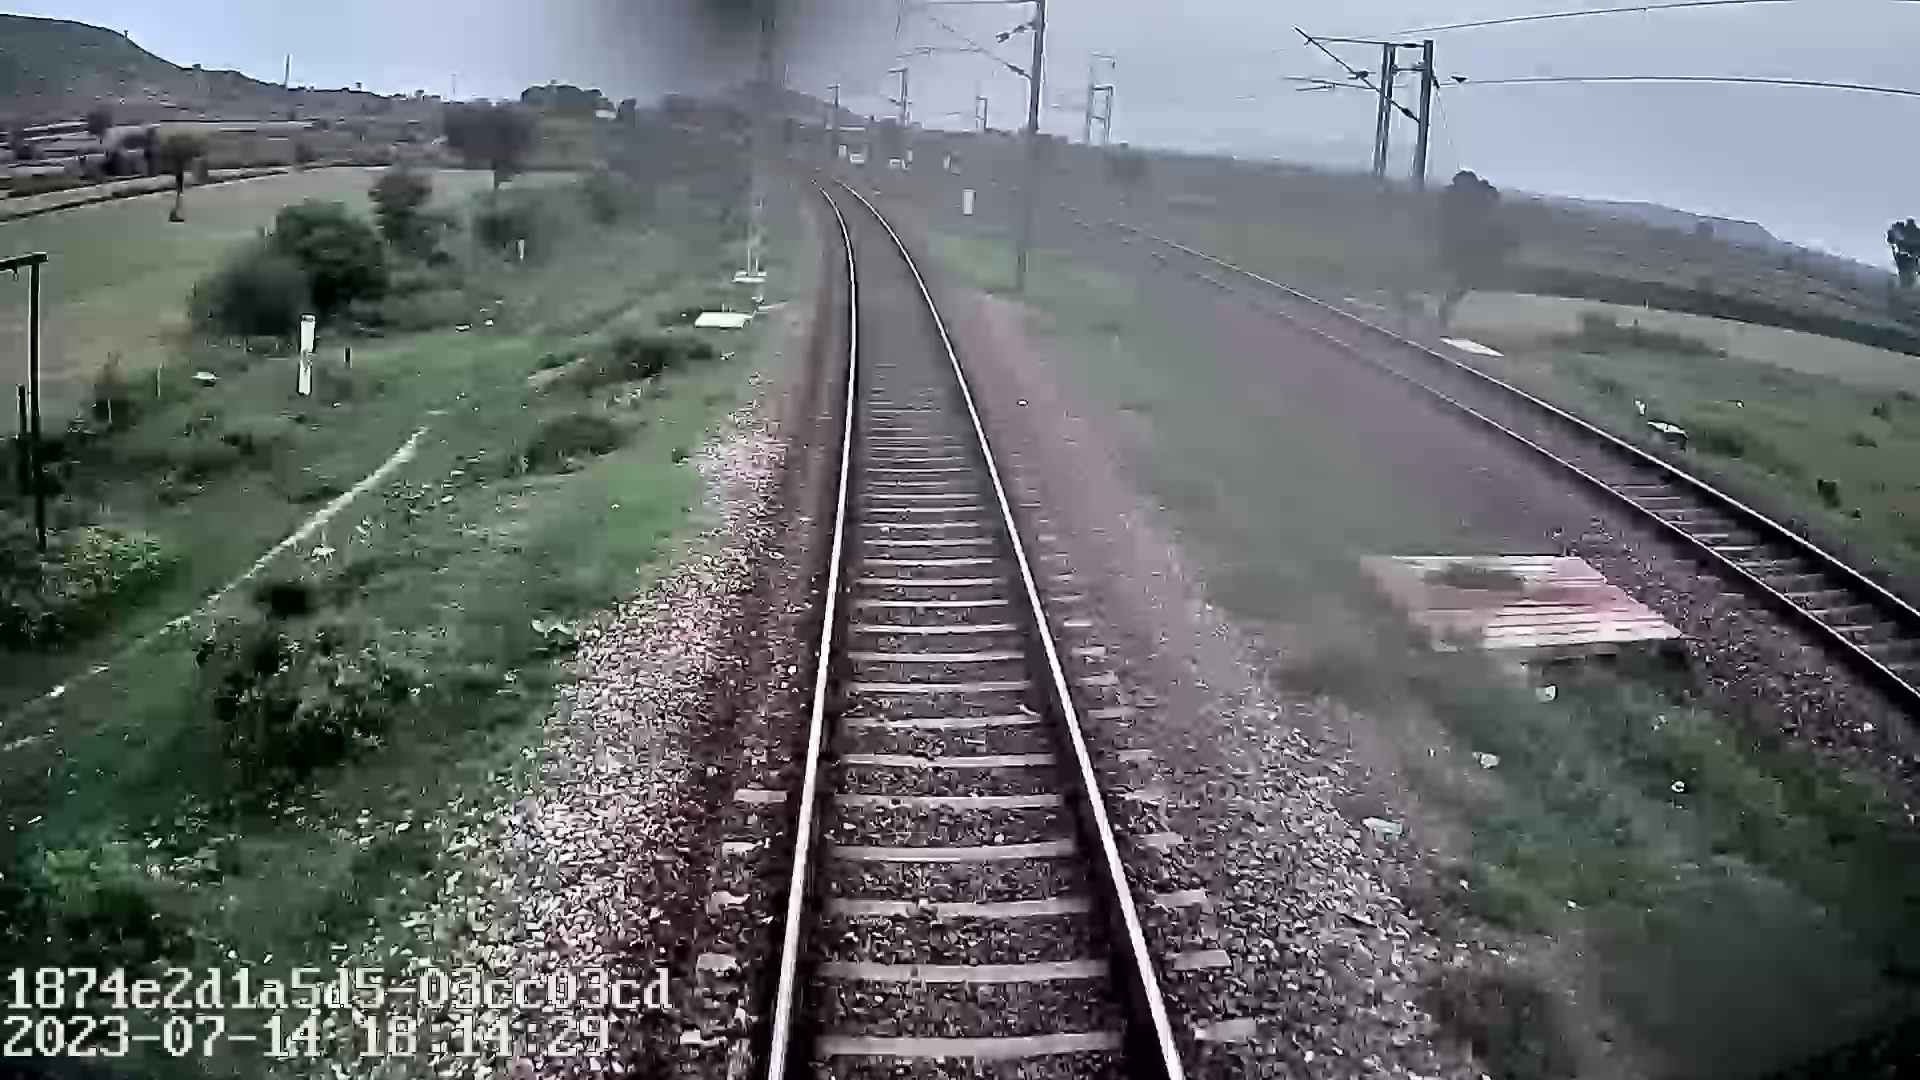track1: (781, 186, 1167, 1051)
track2: (1149, 252, 1908, 684)
